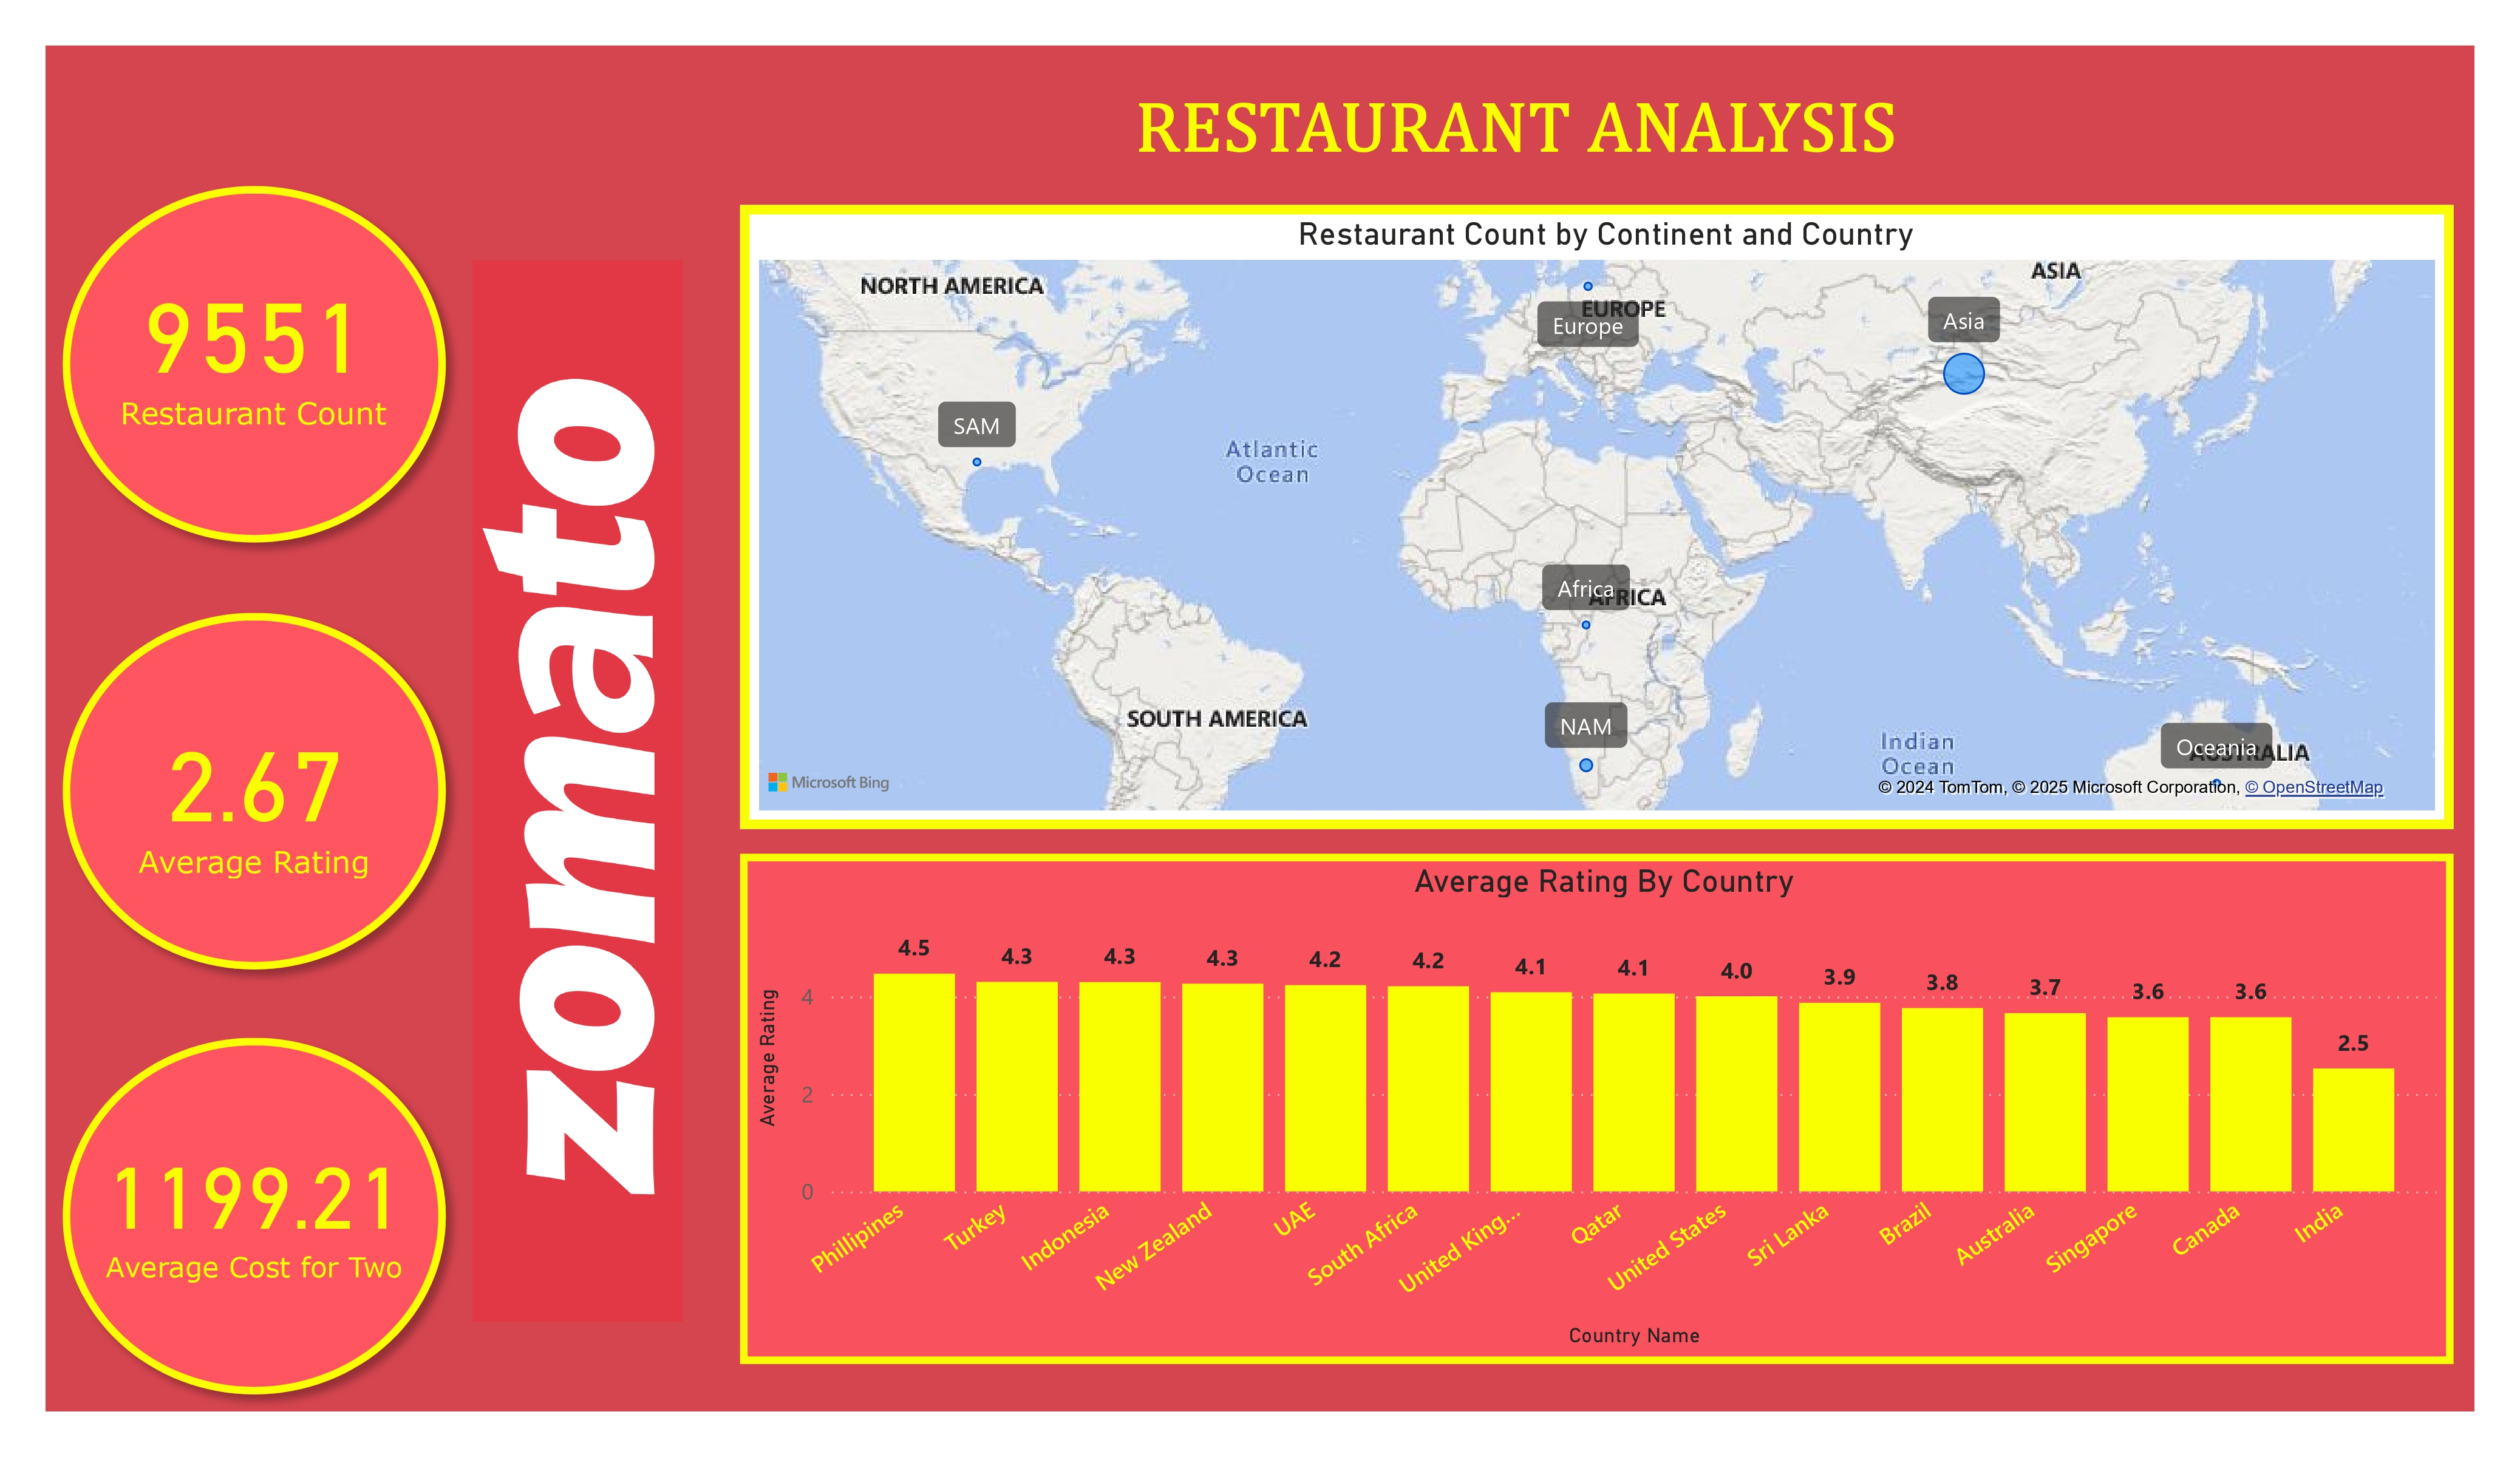

What the dashboard file says about the page in this screenshot:
{"tool":"powerbi","page":{"name":"Page 1","canvas":[1280,720],"ordinal":0},"visuals":[{"type":"shape","box":[0,65,220,206.2],"z":0},{"type":"card","fields":{"Values":["KPIs.Restaurant ID"]},"box":[26.4,106.9,166.9,100.9],"z":1000},{"type":"map","title":"Restaurant Count by Continent and Country","fields":{"Category":["Master Table.Continent","Master Table.Country Name","Master Table.City"],"Size":["Master Table.Restaurant ID"]},"box":[366.2,84.1,903,329],"z":2000},{"type":"columnChart","title":"Average Rating By Country","fields":{"Category":["Master Table.Country Name"],"Y":["KPIs.Aggregate rating"]},"box":[366.2,426.2,902.5,268.8],"z":3000},{"type":"shape","box":[0,290,220,206.2],"z":4000},{"type":"card","fields":{"Values":["KPIs.Aggregate rating"]},"box":[26.2,343.8,167.5,100],"z":5000},{"type":"shape","box":[0,513.8,220,206.2],"z":6000},{"type":"card","fields":{"Values":["KPIs.Average Cost for two"]},"box":[26.2,561.2,167.5,100],"z":7000},{"type":"image","box":[219.7,108.1,121.3,570.4],"z":8000},{"type":"textbox","box":[557.1,19.2,435.9,54],"z":9000}]}

Visuals, with their boxes on the page's 1280x720 design canvas (x1, y1, x2, y2). These are canvas units, not pixel positions in the 2520x1457 screenshot, which may show the page scaled, cropped or inside an application window:
shape: box=[0, 65, 220, 271]
card - KPIs.Restaurant ID: box=[26, 107, 193, 208]
"Restaurant Count by Continent and Country" map: box=[366, 84, 1269, 413]
"Average Rating By Country" columnChart: box=[366, 426, 1269, 695]
shape: box=[0, 290, 220, 496]
card - KPIs.Aggregate rating: box=[26, 344, 194, 444]
shape: box=[0, 514, 220, 720]
card - KPIs.Average Cost for two: box=[26, 561, 194, 661]
image: box=[220, 108, 341, 678]
textbox: box=[557, 19, 993, 73]
